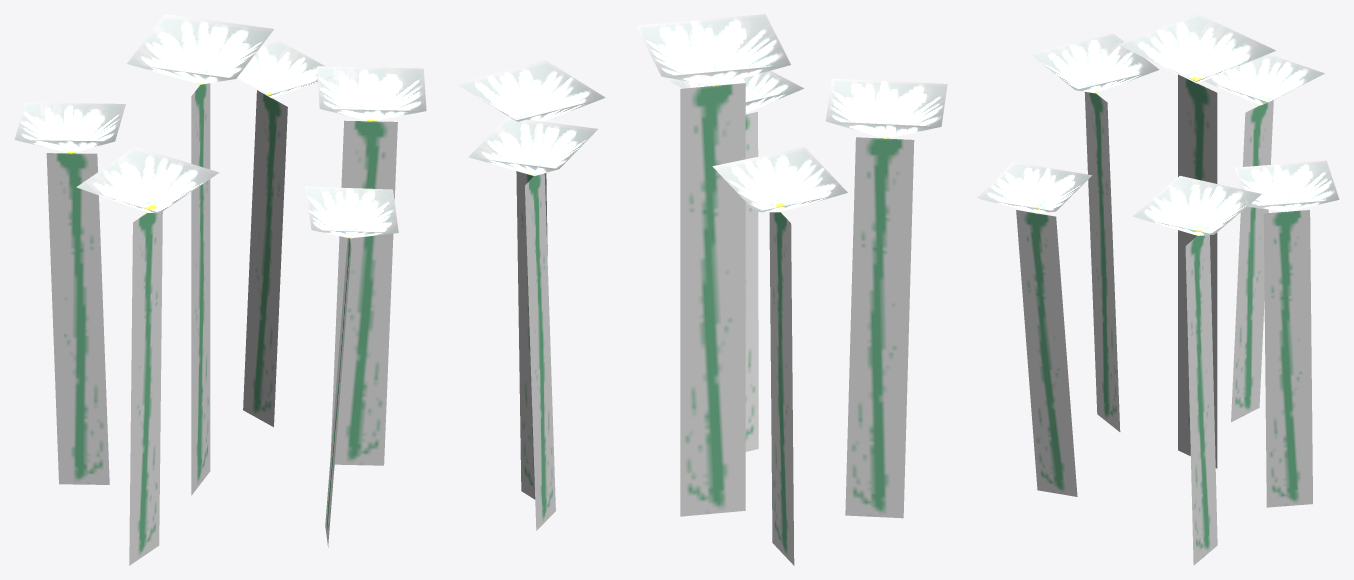
File: SM_ENV_flower_ancient_04.fbx
The picture shows the model from 3 angles, left to right: view 1: azimuth 30°, elevation 25°; view 2: azimuth 150°, elevation 25°; view 3: azimuth 270°, elevation 25°; orthographic projection. The views are drawn at different scales.
Parts seen in each view (by area): view 1: SM_ENV_flower_ancient_04_LOD0; view 2: SM_ENV_flower_ancient_04_LOD0; view 3: SM_ENV_flower_ancient_04_LOD0.
Boxes of the visible parts, x1=… form: SM_ENV_flower_ancient_04_LOD0: x1=14, y1=14, x2=426, y2=565; SM_ENV_flower_ancient_04_LOD0: x1=455, y1=14, x2=947, y2=565; SM_ENV_flower_ancient_04_LOD0: x1=977, y1=14, x2=1339, y2=565.
Size of the model in its own units: 37.66 by 41.48 by 31.37.
